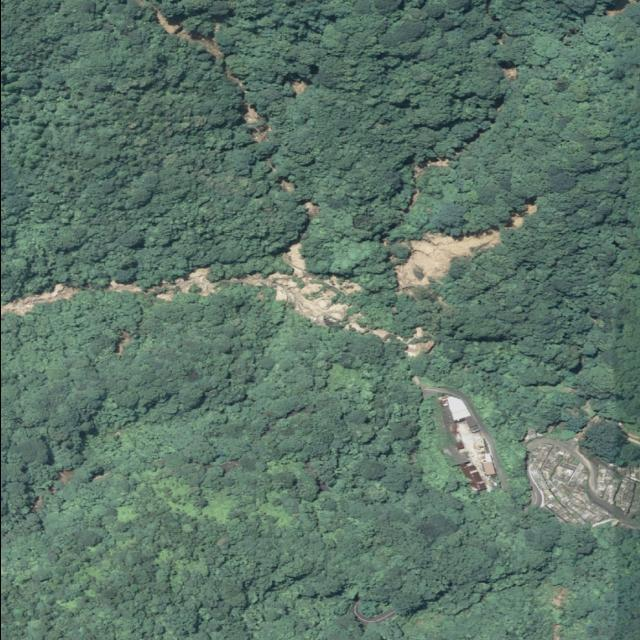landslide: (0, 243, 434, 357), (395, 228, 501, 290)
